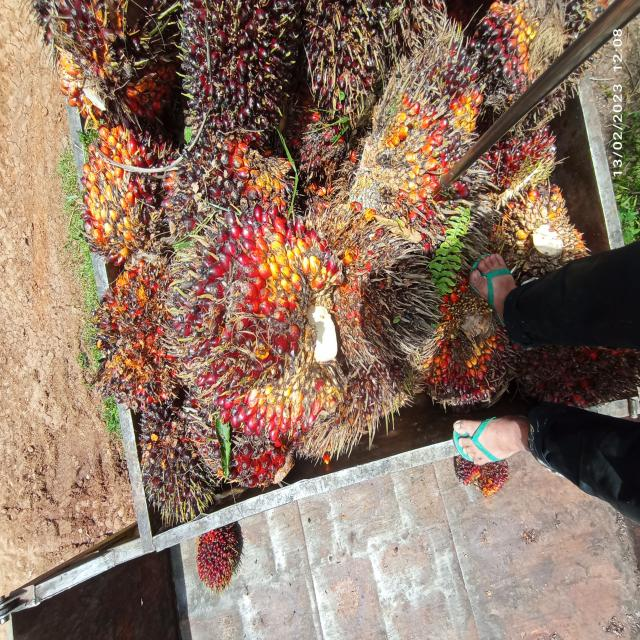fraksi 00: (352, 48, 487, 270), (170, 0, 299, 165)
fraksi 1: (57, 128, 181, 279)
fraksi 3: (158, 170, 370, 464), (432, 262, 520, 426)
